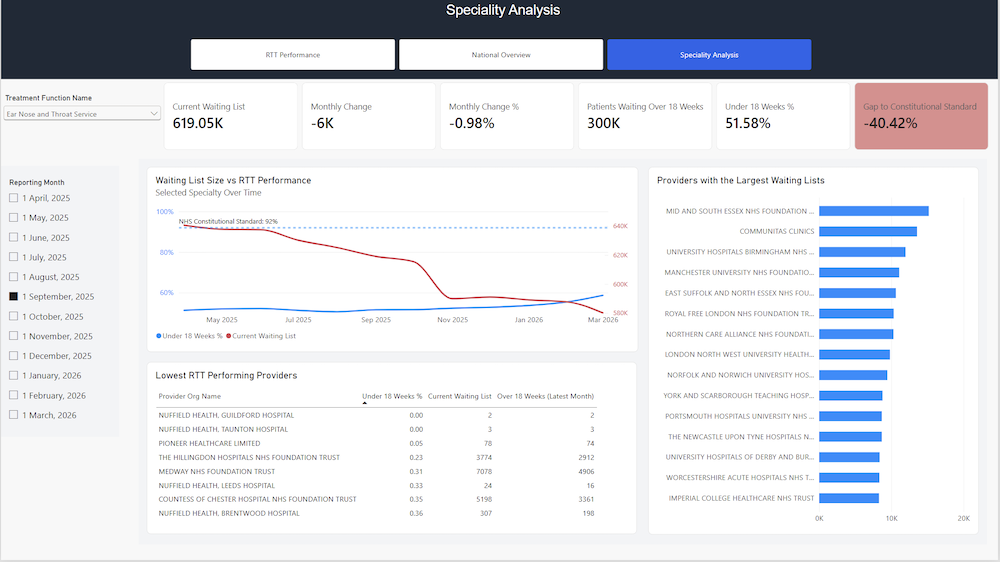

This screenshot's page, from the dashboard's own definition file:
{"tool":"powerbi","page":{"name":"Speciality Analysis","canvas":[1920,1080],"ordinal":2},"visuals":[{"type":"shape","box":[0,2.5,1920,152.6],"z":0,"group":"g1"},{"type":"shape","box":[265.9,308.1,1633.9,742.7],"z":0},{"type":"textbox","box":[595.2,5.8,741.6,74.2],"z":1000,"group":"g1"},{"type":"lineChart","title":"Waiting List Size vs RTT Performance","fields":{"Category":["dim_date.PeriodClean.Variation.Date Hierarchy.Year","dim_date.PeriodClean.Variation.Date Hierarchy.Quarter","dim_date.PeriodClean.Variation.Date Hierarchy.Month","dim_date.PeriodClean.Variation.Date Hierarchy.Day"],"Y":["measures_table.Under 18 Weeks %"],"Y2":["measures_table.Current Waiting List"]},"box":[281.4,322.3,946.4,356.3],"z":1000},{"type":"pageNavigator","box":[365.1,78.1,1197,59.9],"z":2000,"group":"g1"},{"type":"clusteredBarChart","title":"Providers with the Largest Waiting Lists","fields":{"Category":["dim_provider.Provider Org Name"],"Y":["measures_table.Latest Waiting List"]},"box":[1247,322.8,636.3,707.9],"z":2000},{"type":"shape","box":[0,322.1,227.8,521.6],"z":3000},{"type":"slicer","fields":{"Values":["dim_date.PeriodClean"]},"box":[8.2,344.1,258.5,499.7],"z":4000},{"type":"slicer","fields":{"Values":["dim_speciality.Treatment Function Name"]},"box":[0,181.6,313.2,84],"z":5000},{"type":"tableEx","title":"Lowest RTT Performing Providers","fields":{"Values":["dim_provider.Provider Org Name","measures_table.Under 18 Weeks %","measures_table.Latest Waiting List","measures_table.Over 18 Weeks (Latest Month)"]},"box":[281.4,699,944.1,331.3],"z":6000},{"type":"group","id":"g1","title":"Group 1","box":[0,2.5,1920,152.6],"z":7000},{"type":"cardVisual","fields":{"Data":["measures_table.Latest National Waiting List","measures_table.Monthly Change","measures_table.Monthly Change %","measures_table.Over 18 Weeks (Latest Month)","measures_table.Under 18 Weeks &","measures_table.Gap to Constitutional Standard"]},"box":[313.2,161.1,1590,130],"z":8000}]}

Visuals, with their boxes in screenshot pixels (x1, y1, x2, y2), scaled from the page's 1920x1080 canvas onto the 1000x562 screenshot:
shape: bbox(0, 1, 999, 81)
shape: bbox(138, 160, 989, 547)
textbox: bbox(310, 3, 696, 42)
"Waiting List Size vs RTT Performance" lineChart: bbox(147, 168, 639, 353)
pageNavigator: bbox(190, 41, 814, 72)
"Providers with the Largest Waiting Lists" clusteredBarChart: bbox(649, 168, 981, 536)
shape: bbox(0, 168, 119, 439)
slicer - dim_date.PeriodClean: bbox(4, 179, 139, 439)
slicer - dim_speciality.Treatment Function Name: bbox(0, 94, 163, 138)
"Lowest RTT Performing Providers" tableEx: bbox(147, 364, 638, 536)
"Group 1" group: bbox(0, 1, 999, 81)
cardVisual - measures_table.Latest National Waiting List x measures_table.Monthly Change: bbox(163, 84, 991, 151)
